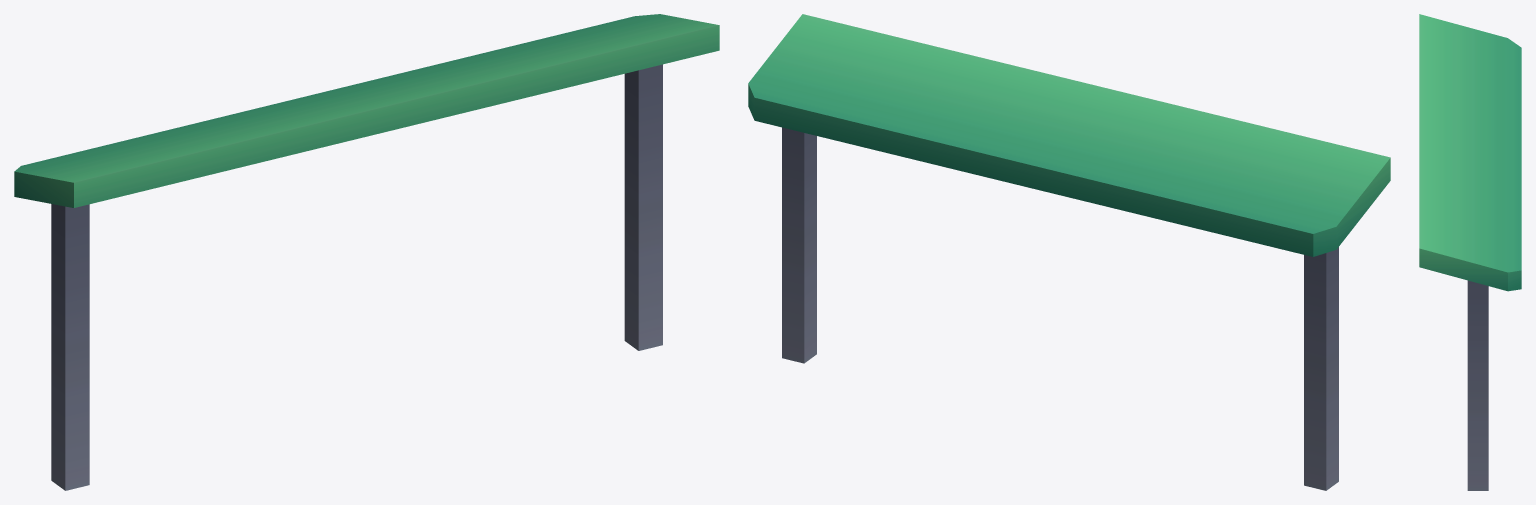
The model's file is commercial__detail-awning-wide.glb.
3 views of the same model, side by side, from view 1: azimuth 30°, elevation 25°; view 2: azimuth 150°, elevation 25°; view 3: azimuth 270°, elevation 25° (orthographic). The views are drawn at different scales.
Visible parts, largest first — view 1: detail-awning-wide; view 2: detail-awning-wide; view 3: detail-awning-wide.
Part boxes in pixels (x1,y1,x2,y2): detail-awning-wide: (14, 14, 719, 490); detail-awning-wide: (748, 14, 1390, 490); detail-awning-wide: (1419, 14, 1521, 490).
Size of the model in its own units: 0.8 by 0.4001 by 0.1479.
Materials: 1 (1 with a texture image).
